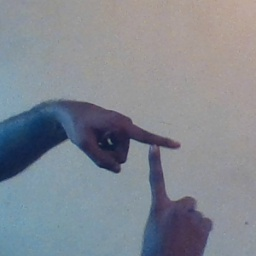T: (115, 108, 200, 227)
